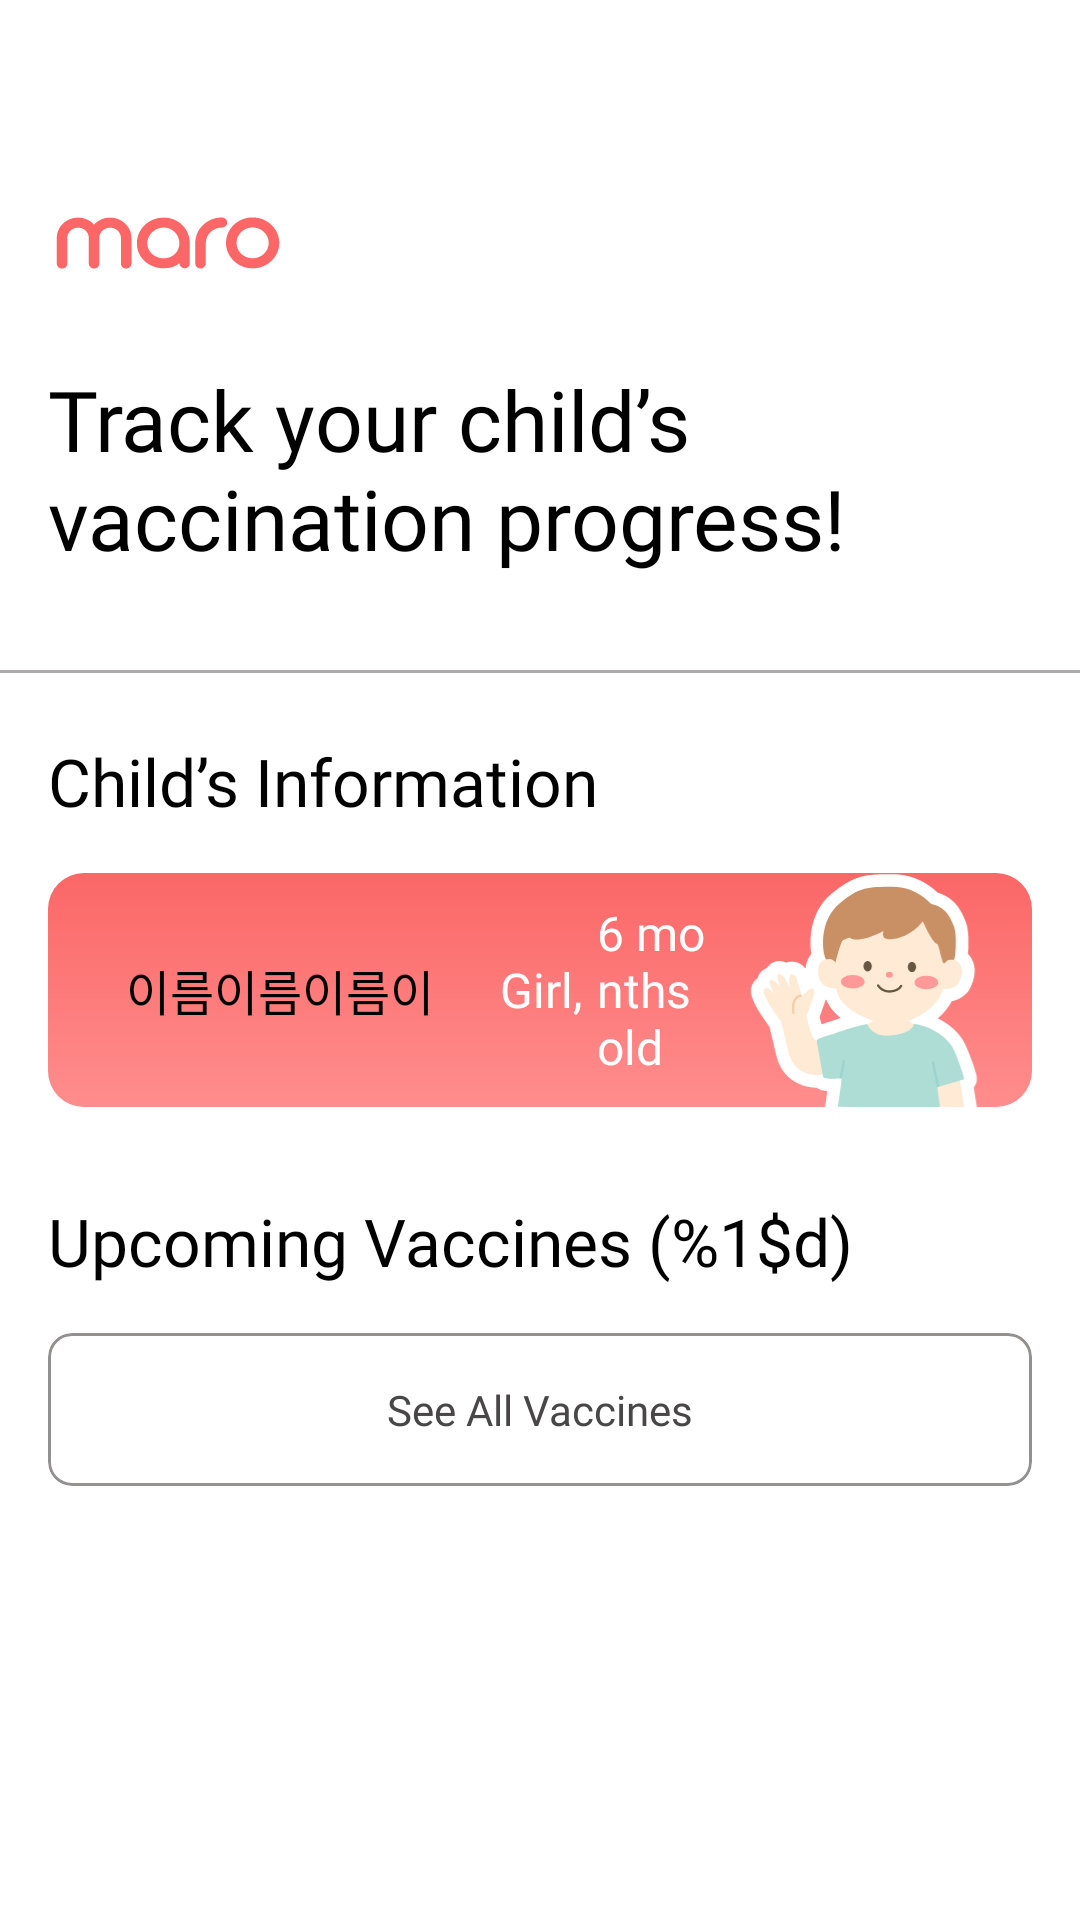

Named icons in this screenshot (1080x1920) and their centers, (x,y):
boy: (864,990)
